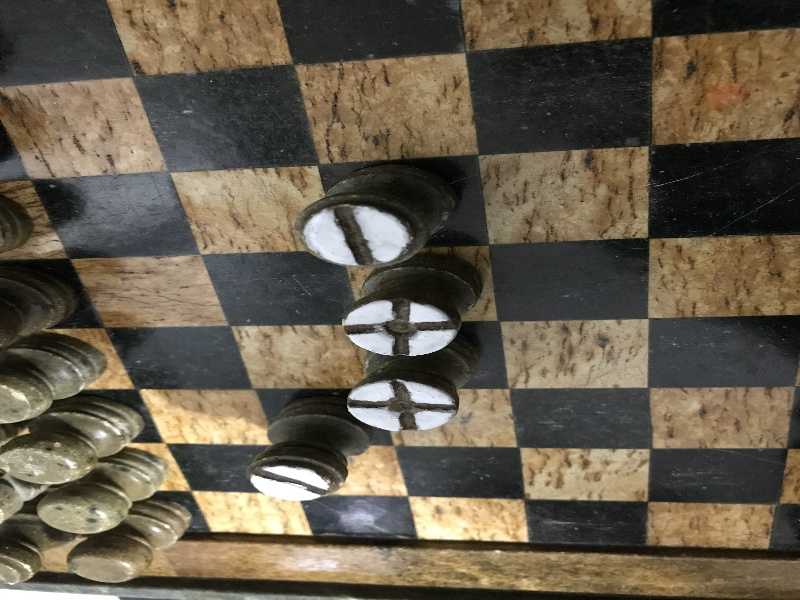WhiteBishop: (343, 256, 479, 357), (347, 346, 478, 432)
WhiteRook: (295, 166, 454, 266), (248, 395, 373, 503)
